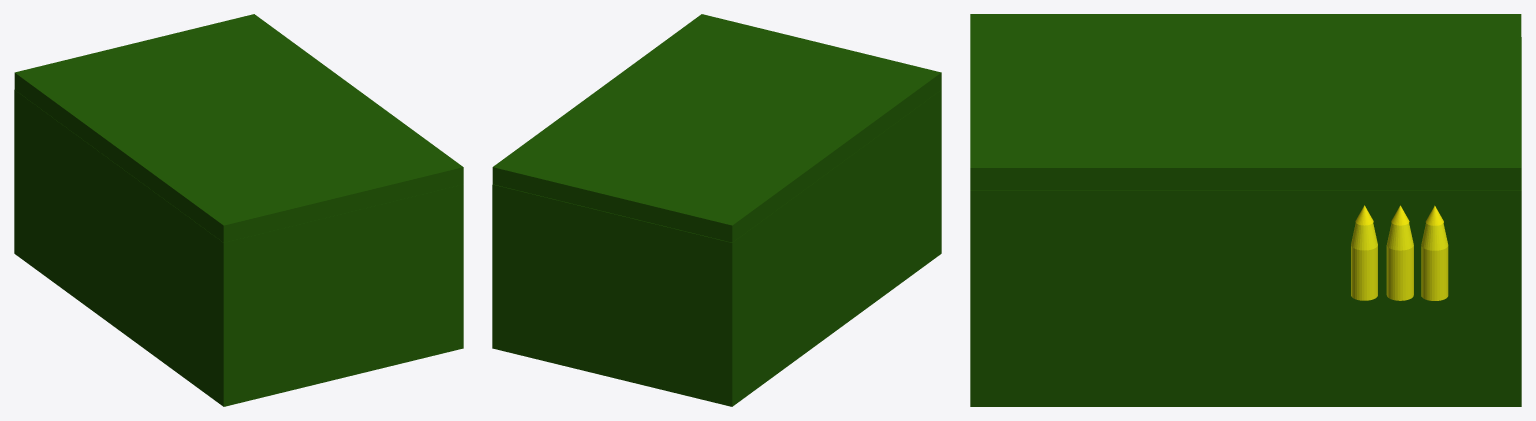
The model's file is AmmoBox.fbx.
The picture shows the model from 3 angles, left to right: view 1: azimuth 30°, elevation 25°; view 2: azimuth 150°, elevation 25°; view 3: azimuth 270°, elevation 25°; orthographic projection. The views are drawn at different scales.
Parts seen in each view (by area): view 1: Cube; view 2: Cube; view 3: Cube, Cylinder.002, Cylinder.001, Cylinder.
Part boxes in pixels (x1,y1,x2,y2): Cube: (14, 14, 463, 406); Cube: (492, 14, 941, 406); Cube: (970, 14, 1521, 406); Cylinder.002: (1421, 223, 1448, 300); Cylinder.001: (1386, 223, 1413, 300); Cylinder: (1351, 223, 1377, 300).
Bounding box in the file's own units: 212 × 145 × 302.
